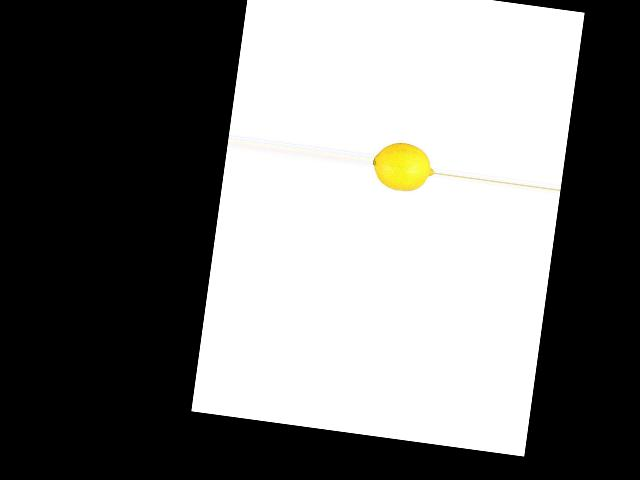lemon: (370, 139, 436, 194)
